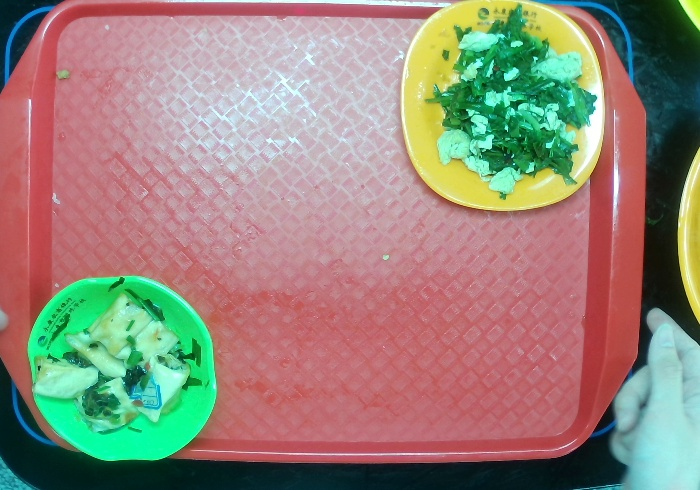YKMZ-Ju_Se_Fang_Die: (400, 1, 606, 214)
YKMZ-Lv_Se_Ao_Bian_Wan: (26, 274, 218, 463)
